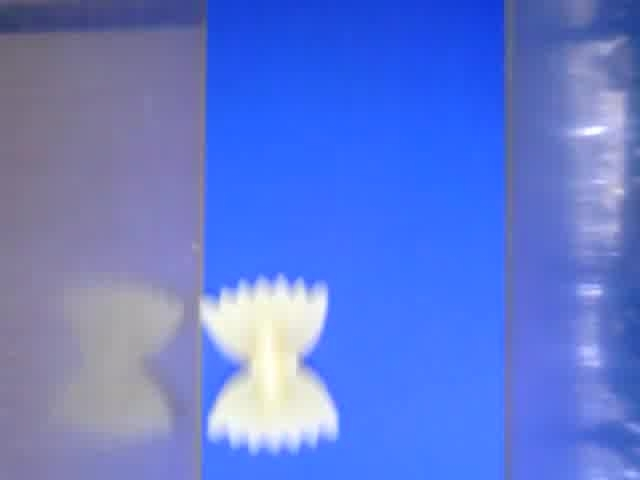farfalle: (202, 274, 342, 453)
